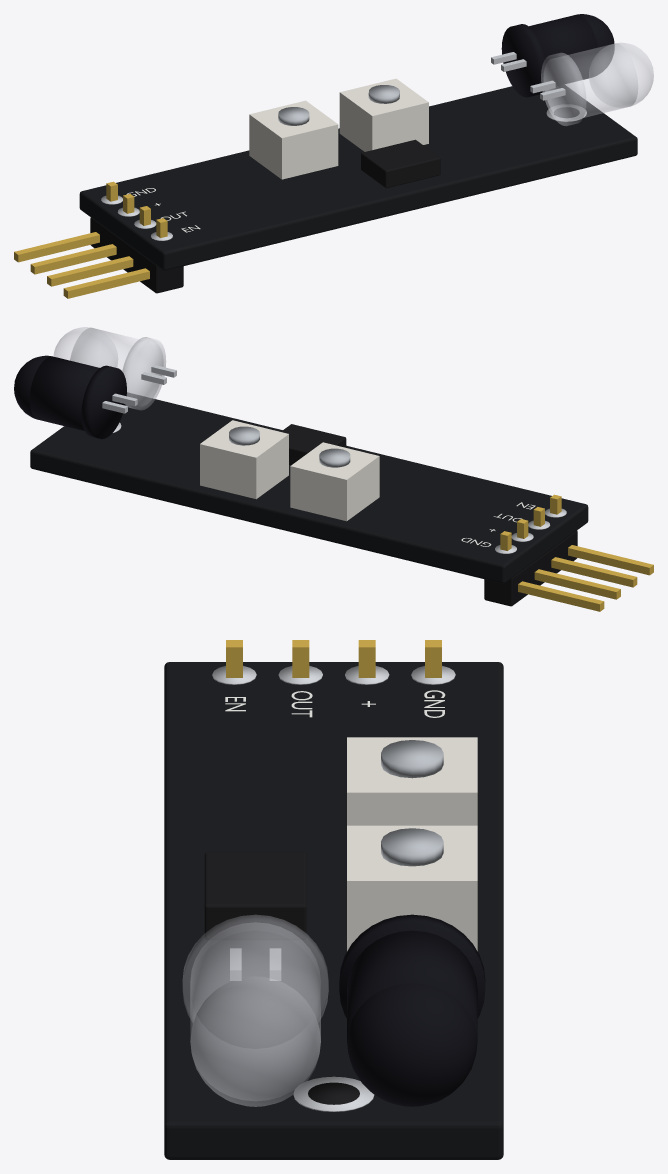
File: avoidance-sensor.glb
3 views of the same model, one above another, from view 1: azimuth 30°, elevation 25°; view 2: azimuth 150°, elevation 25°; view 3: azimuth 270°, elevation 25° (orthographic). The views are drawn at different scales.
Parts seen in each view (by area): view 1: pcb.017, led_body.002, part.060, part.062, led_body.003, led_dome.002, part.064, led_rim.002, led_rim.003, header.017, pin_h.057, pin_h.058 (+5 smaller); view 2: pcb.017, part.060, part.062, led_body.002, led_body.003, led_rim.003, led_rim.002, header.017, led_dome.002, part.064, pin_h.058, pin_h.056 (+5 smaller); view 3: pcb.017, led_body.002, led_dome.002, led_dome.003, part.062, part.060, led_rim.002, part.064, led_body.003, led_rim.003, part.061, part.063 (+2 smaller).
Part boxes in pixels (<box>): pcb.017: <box>79,85,637,270</box>; led_body.002: <box>543,43,637,121</box>; part.060: <box>249,100,338,179</box>; part.062: <box>339,78,428,151</box>; led_body.003: <box>529,14,598,85</box>; led_dome.002: <box>589,43,653,107</box>; part.064: <box>361,139,440,188</box>; led_rim.002: <box>541,53,586,125</box>; led_rim.003: <box>501,24,546,97</box>; header.017: <box>90,217,183,293</box>; pin_h.057: <box>30,244,116,274</box>; pin_h.058: <box>47,256,133,286</box>; pcb.017: <box>30,392,588,583</box>; part.060: <box>290,442,379,521</box>; part.062: <box>200,420,288,499</box>; led_body.002: <box>70,328,163,406</box>; led_body.003: <box>29,356,99,430</box>; led_rim.003: <box>81,365,126,439</box>; led_rim.002: <box>122,337,165,410</box>; header.017: <box>484,530,577,606</box>; led_dome.002: <box>54,327,117,367</box>; part.064: <box>281,424,346,465</box>; pin_h.058: <box>551,557,637,587</box>; pin_h.056: <box>518,581,604,611</box>; pcb.017: <box>164,662,503,1159</box>; led_body.002: <box>190,922,320,1100</box>; led_dome.002: <box>190,976,320,1106</box>; led_dome.003: <box>347,983,477,1106</box>; part.062: <box>347,825,477,951</box>; part.060: <box>347,737,477,825</box>; led_rim.002: <box>183,915,328,1022</box>; part.064: <box>204,852,306,940</box>; led_body.003: <box>347,930,477,1052</box>; led_rim.003: <box>339,914,485,1018</box>; part.061: <box>381,740,443,778</box>; part.063: <box>381,828,443,866</box>.
Size of the model in its own units: 0.0521 by 0.0106 by 0.013.
